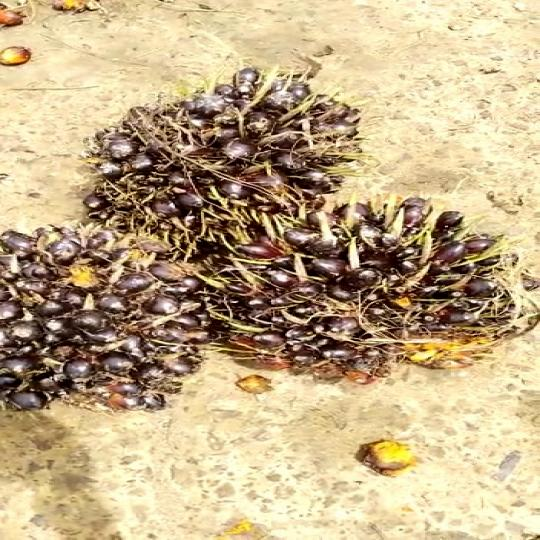mentah: (56, 56, 373, 254), (199, 196, 529, 377), (0, 224, 215, 412)
